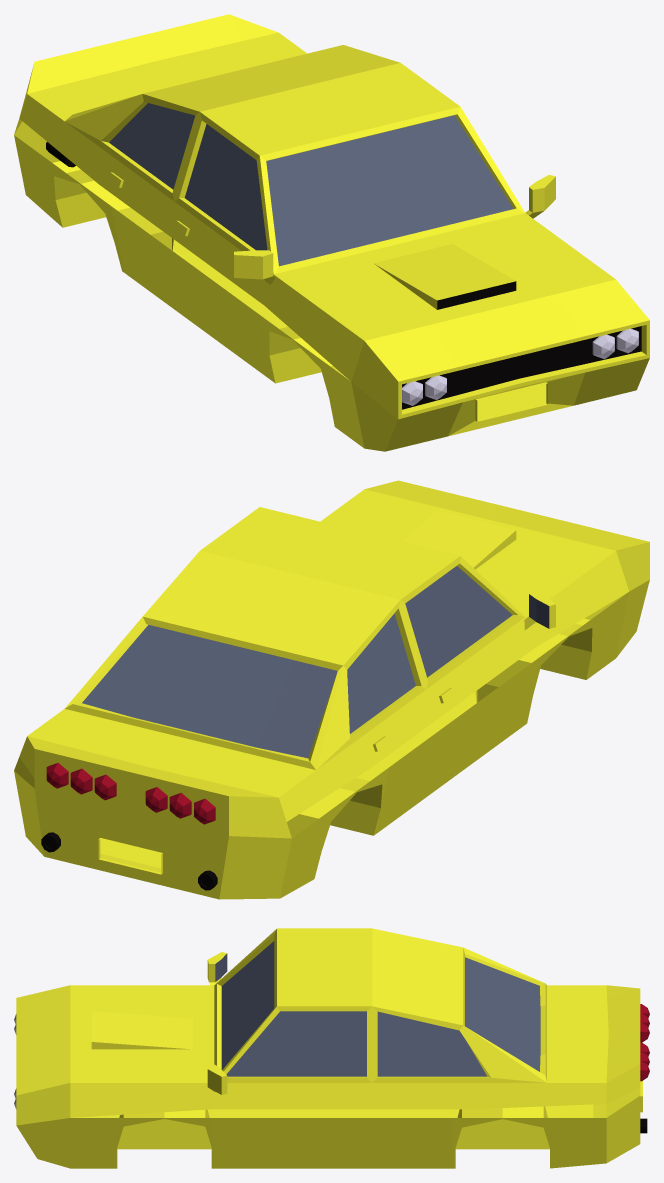
The model's file is Muscle.glb.
3 renders of one model, top to bottom at view 1: azimuth 30°, elevation 25°; view 2: azimuth 150°, elevation 25°; view 3: azimuth 270°, elevation 25°, orthographic. The views are drawn at different scales.
Visible parts, largest first — view 1: Muscle; view 2: Muscle; view 3: Muscle.
Boxes of the visible parts, left/top/right/bottom form: Muscle: left=14, top=14, right=649, bottom=451; Muscle: left=14, top=480, right=649, bottom=899; Muscle: left=14, top=928, right=649, bottom=1168.
Size of the model in its own units: 281 by 160 by 606.
